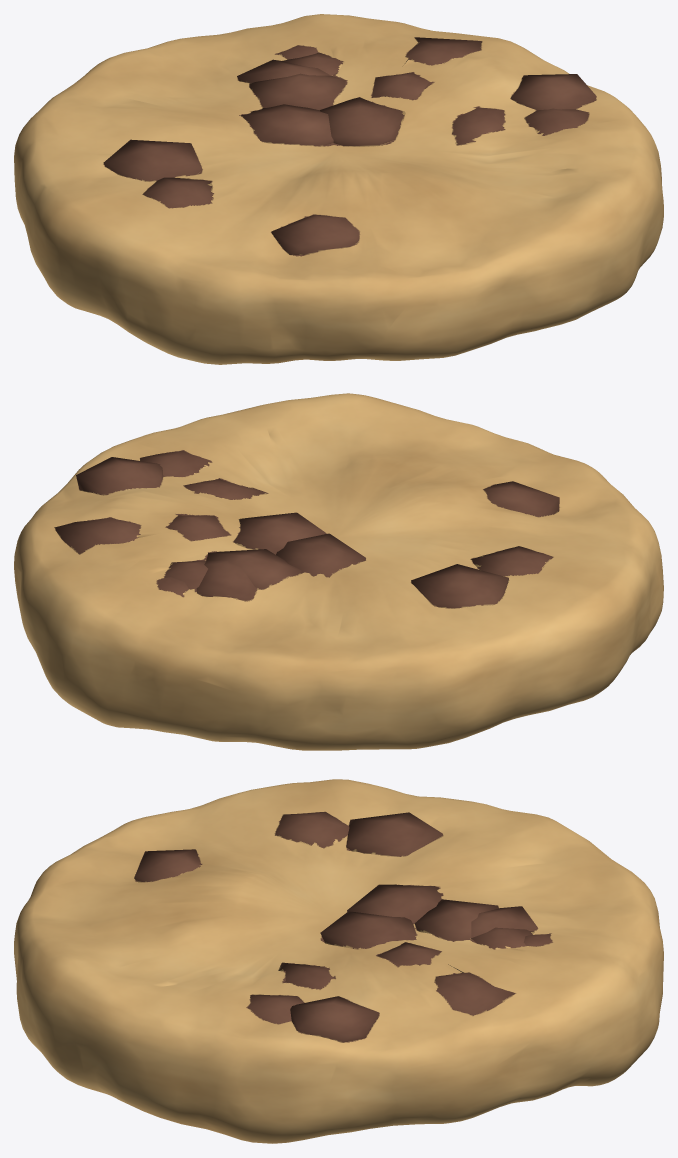
Rendered from Snack_Cookie.fbx.
3 renders of one model, top to bottom at view 1: azimuth 30°, elevation 25°; view 2: azimuth 150°, elevation 25°; view 3: azimuth 270°, elevation 25°, orthographic.
Visible parts, largest first — view 1: Snack_Cookie; view 2: Snack_Cookie; view 3: Snack_Cookie.
Part boxes in pixels (box(x1,y1,x2,y2)): Snack_Cookie: box(14, 14, 663, 364); Snack_Cookie: box(14, 393, 663, 750); Snack_Cookie: box(14, 779, 663, 1143).
Bounding box in the file's own units: 210 × 45.34 × 207.
